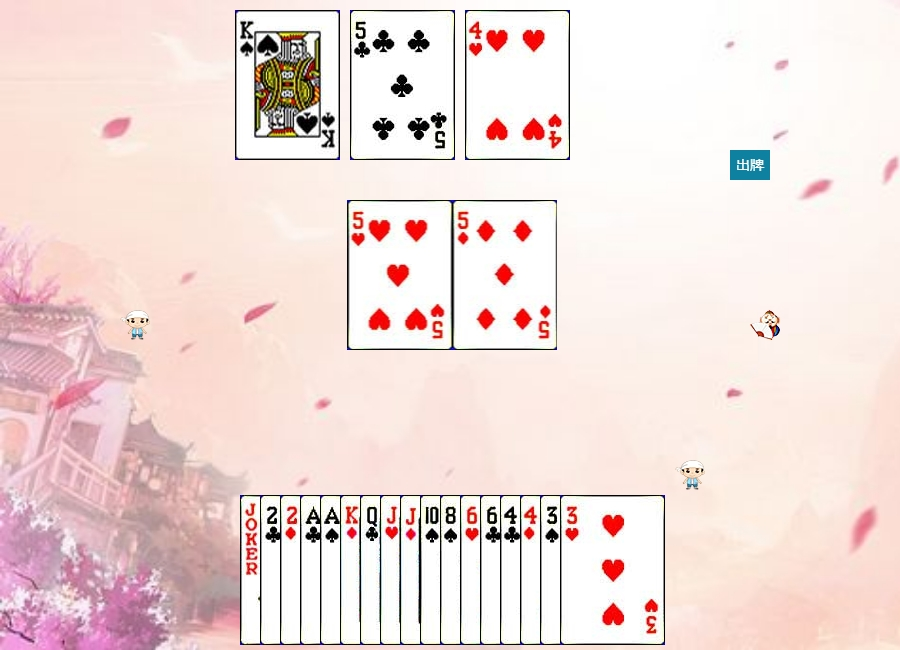10~4: (420, 495, 525, 645)
11~1: (400, 495, 505, 645)
11~3: (380, 495, 485, 645)
12~2: (360, 495, 465, 645)
13~1: (340, 495, 445, 645)
13~4: (235, 10, 340, 160)
14~2: (300, 495, 405, 645)
14~4: (320, 495, 425, 645)
15~1: (280, 495, 385, 645)
15~2: (260, 495, 365, 645)
18~4: (240, 495, 345, 645)
3~3: (560, 495, 665, 645)
3~4: (540, 495, 645, 645)
4~1: (520, 495, 625, 645)
4~2: (500, 495, 605, 645)
4~3: (465, 10, 570, 160)
5~1: (453, 200, 558, 350)
5~2: (350, 10, 455, 160)
5~3: (348, 200, 453, 350)
6~2: (480, 495, 585, 645)
6~3: (460, 495, 565, 645)
8~4: (440, 495, 545, 645)
